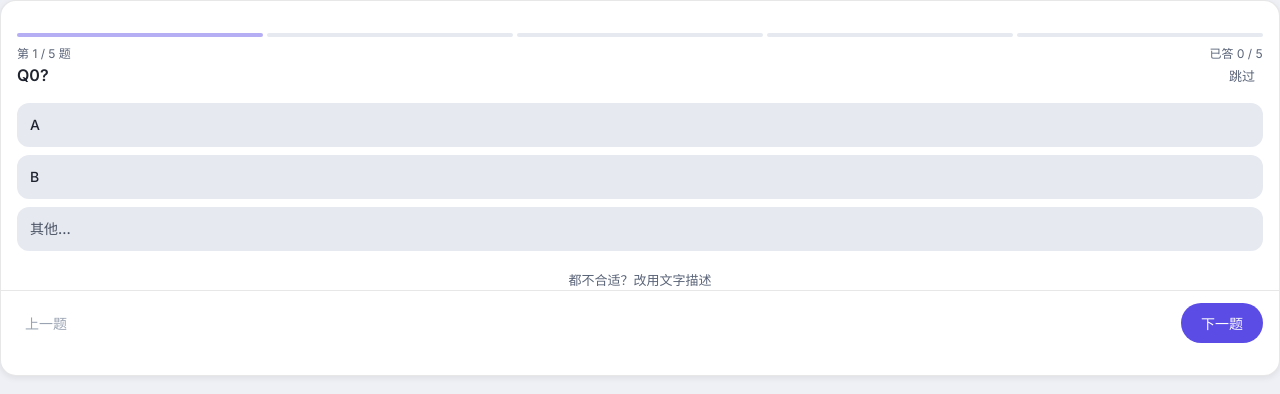
AskUserCard（spec 2026-10-28 分页单题推进 / T0-T2 + 视觉重制） › 多题卡：5 题可逐题导航抵达每一题（无 Q5 死锁，S2）
The image size is (1280, 394).
Expected: the element with class "ask-progress" shows "第 1 / 5 题", [17,46,71,61]
Expected: the number of elements with class "ask-question" is 1, [17,63,1263,250]
Click the button with class "ask-nav-next" at (1222, 323), box [1181,303,1263,343]
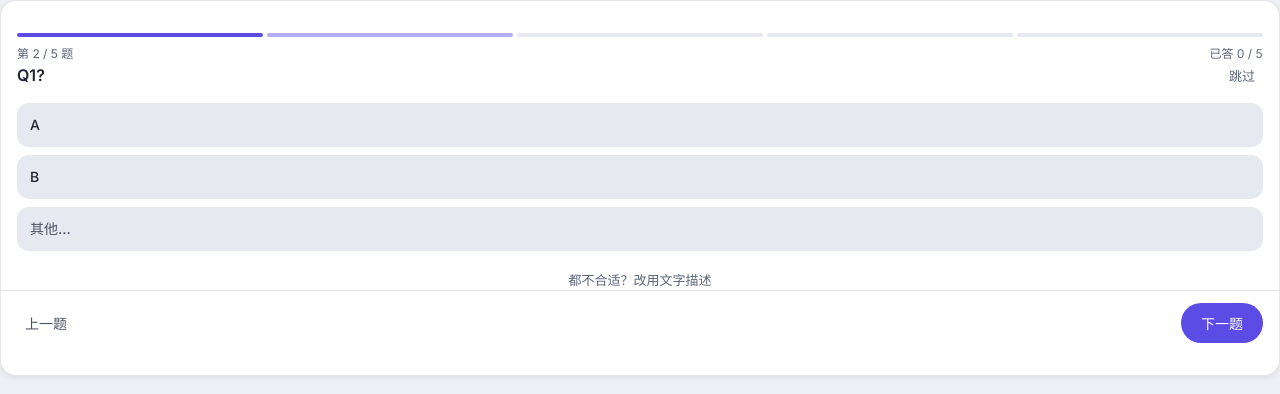
Expected: the number of elements with class "ask-question" is 1, [17,63,1263,250]
Click the button with class "ask-nav-next" at (1222, 323), box [1181,303,1263,343]
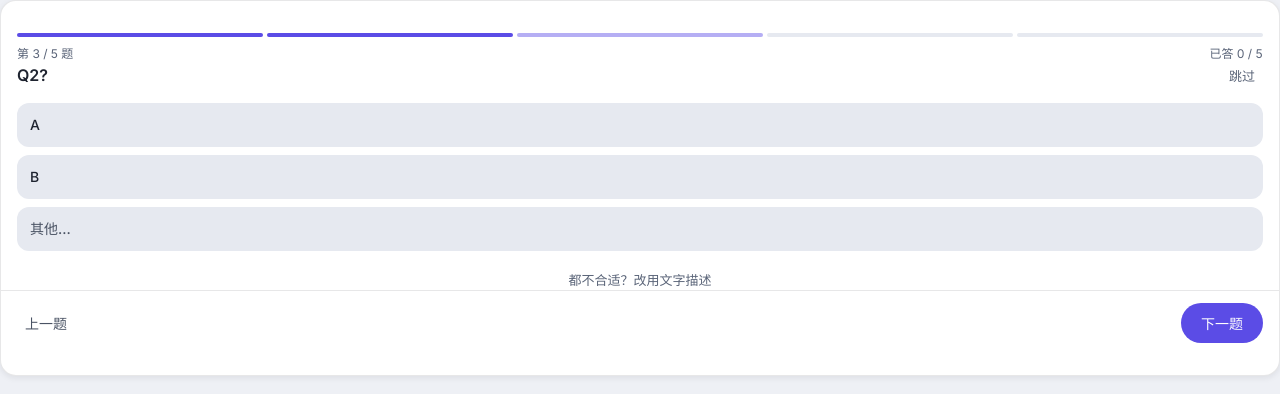
Expected: the number of elements with class "ask-question" is 1, [17,63,1263,250]
Click the button with class "ask-nav-next" at (1222, 323), box [1181,303,1263,343]
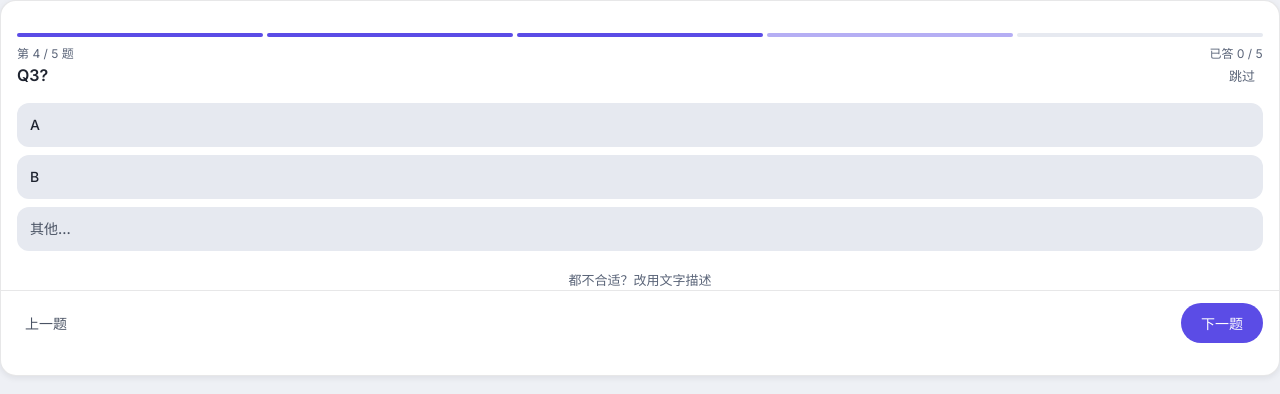
Expected: the number of elements with class "ask-question" is 1, [17,63,1263,250]
Click the button with class "ask-nav-next" at (1222, 323), box [1181,303,1263,343]
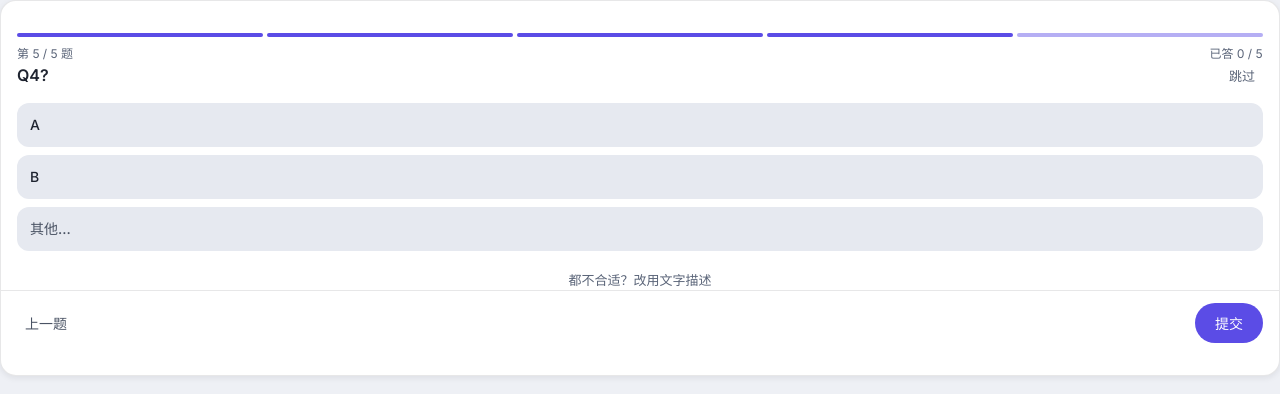
Expected: the number of elements with class "ask-question" is 1, [17,63,1263,250]
Expected: the button with class "ask-nav-submit" is shown, [1195,303,1263,343]
